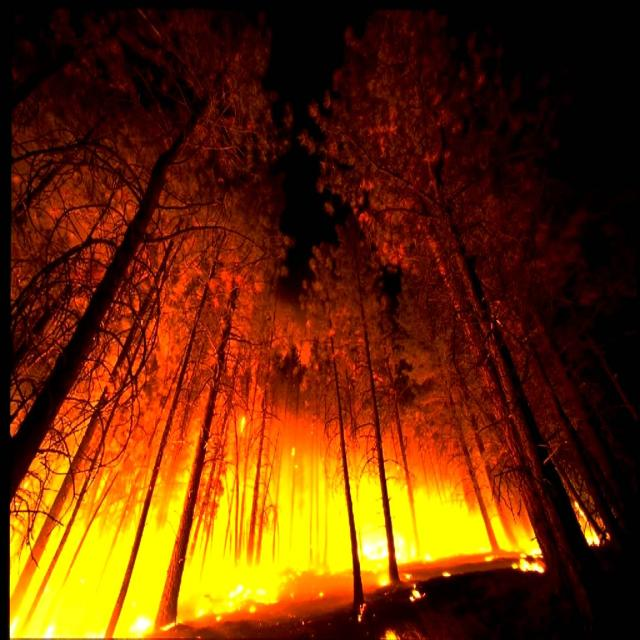Fire: (0, 492, 595, 630)
